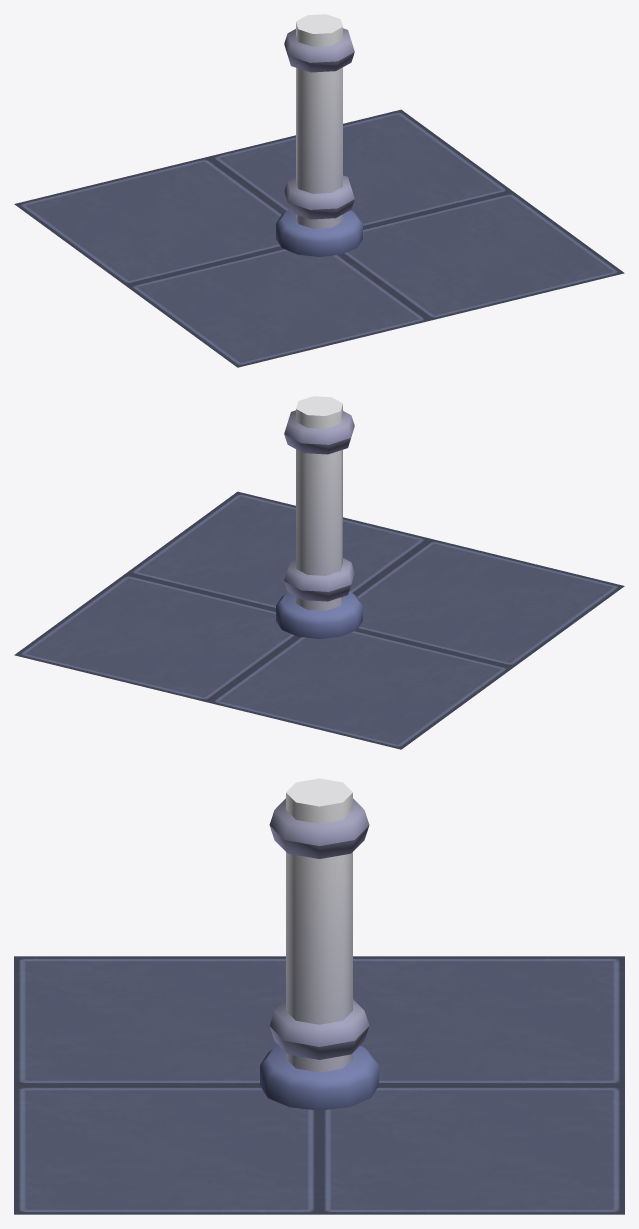
The model's file is kenney-space-template-floor-big.glb.
The picture shows the model from 3 angles, top to bottom: view 1: azimuth 30°, elevation 25°; view 2: azimuth 150°, elevation 25°; view 3: azimuth 270°, elevation 25°; orthographic projection. The views are drawn at different scales.
Parts seen in each view (by area): view 1: template-floor-big; view 2: template-floor-big; view 3: template-floor-big.
Part boxes in pixels (x1=…): template-floor-big: x1=14, y1=14, x2=624, y2=367; template-floor-big: x1=14, y1=396, x2=624, y2=749; template-floor-big: x1=14, y1=778, x2=624, y2=1214.
Bounding box in the file's own units: 6 × 3.17 × 6.
Materials: 1 (1 with a texture image).
